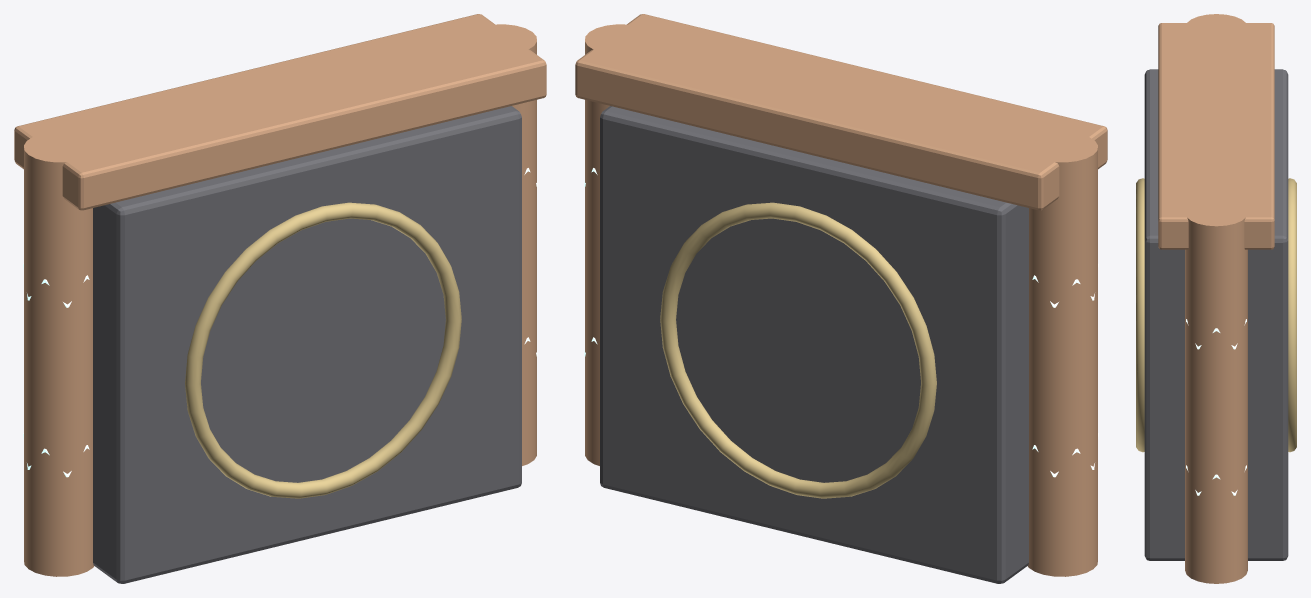
Rendered from PortaoMaquina.fbx.
3 renders of one model, left to right at view 1: azimuth 30°, elevation 25°; view 2: azimuth 150°, elevation 25°; view 3: azimuth 270°, elevation 25°, orthographic. The views are drawn at different scales.
Visible parts, largest first — view 1: PortaoMaquina; view 2: PortaoMaquina; view 3: PortaoMaquina.
Boxes of the visible parts, bbox=[...] form: PortaoMaquina: bbox=[14, 14, 546, 583]; PortaoMaquina: bbox=[575, 14, 1107, 583]; PortaoMaquina: bbox=[1136, 14, 1296, 583].
Size of the model in its own units: 5.62 by 4.4 by 1.79.
